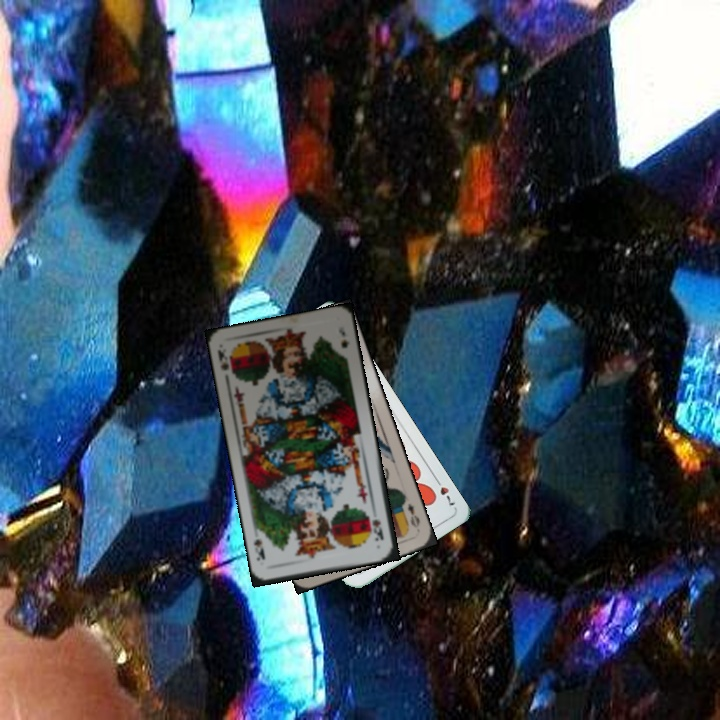EO: (403, 499, 423, 530)
H7: (430, 473, 458, 508)
SK: (368, 515, 386, 543), (214, 345, 232, 373)
